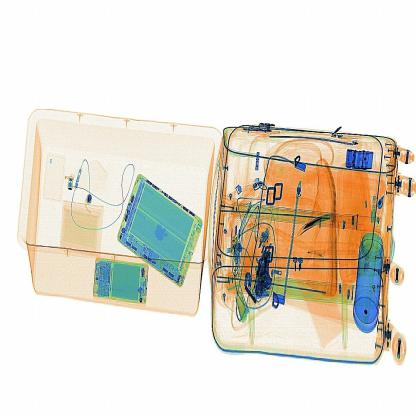wrench: (293, 202, 341, 242)
